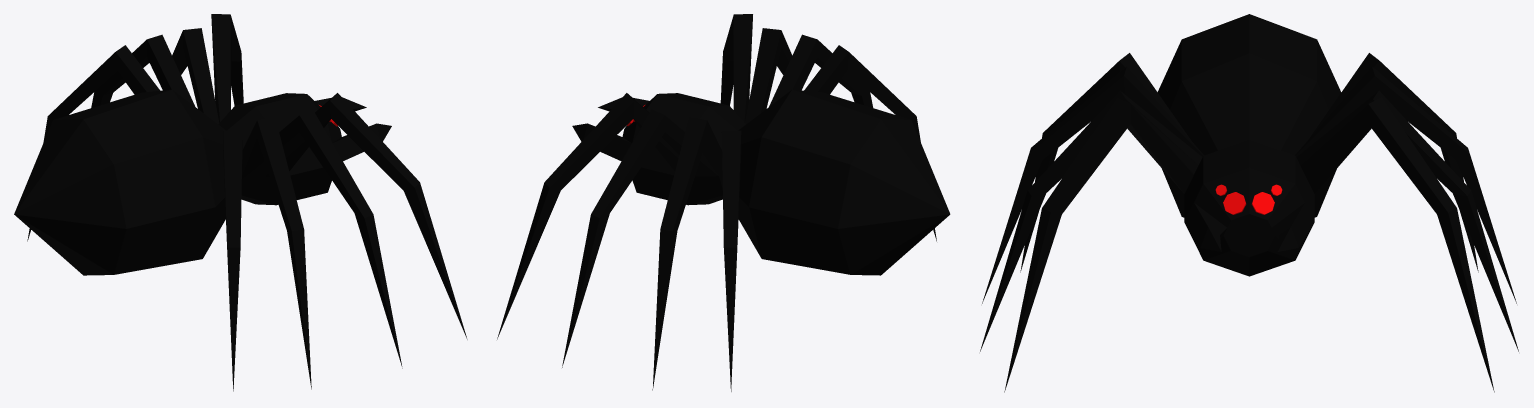
Rendered from normal_spider.fbx.
3 renders of one model, left to right at view 1: azimuth 30°, elevation 25°; view 2: azimuth 150°, elevation 25°; view 3: azimuth 270°, elevation 25°, orthographic. The views are drawn at different scales.
Visible parts, largest first — view 1: Plane.003; view 2: Plane.003; view 3: Plane.003, Circle.
Part boxes in pixels (x1,y1,x2,y2): Plane.003: [14, 14, 467, 391]; Plane.003: [497, 14, 950, 391]; Plane.003: [980, 14, 1518, 392]; Circle: [1223, 192, 1274, 214].
Size of the model in its own units: 490 by 291 by 564.
Materials: 2 (1 with a texture image).
